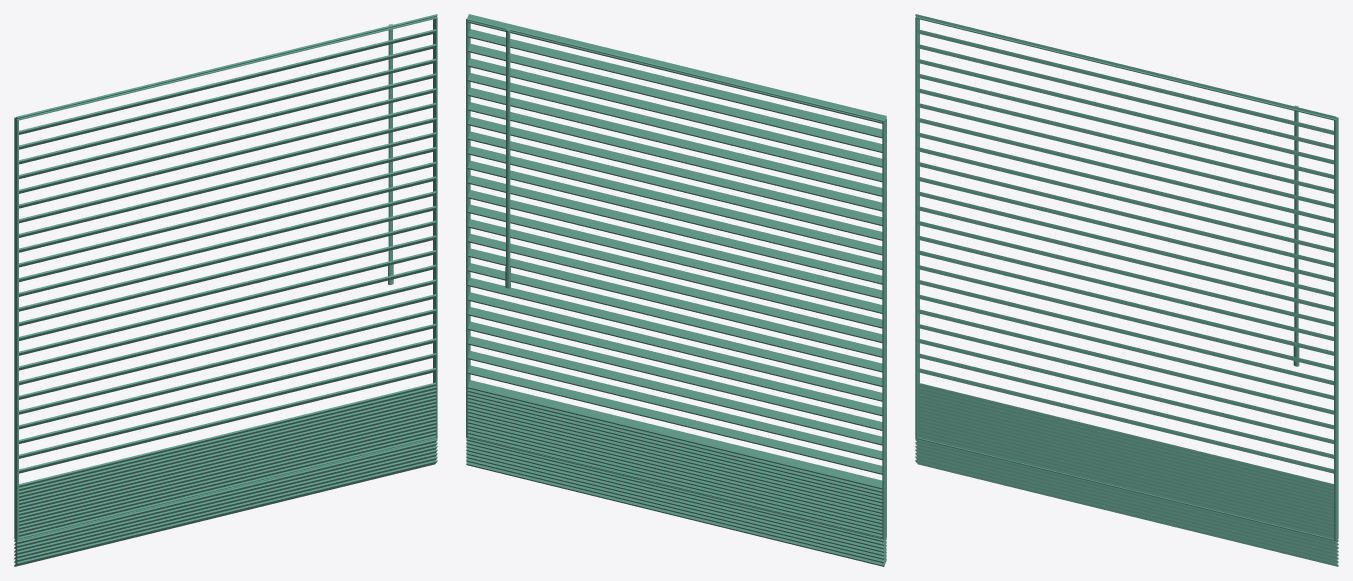
The model's file is verticalBlindAnim.glb.
3 renders of one model, left to right at view 1: azimuth 30°, elevation 25°; view 2: azimuth 150°, elevation 25°; view 3: azimuth 330°, elevation 25°, orthographic.
Visible parts, largest first — view 1: Sheet, Wood, Cable; view 2: Sheet, Wood, Cable; view 3: Sheet, Wood, Cable.
Part boxes in pixels (bbox=[...]): Sheet: bbox=[14, 14, 437, 566]; Wood: bbox=[14, 16, 437, 541]; Cable: bbox=[388, 24, 393, 284]; Sheet: bbox=[466, 14, 886, 566]; Wood: bbox=[466, 18, 886, 539]; Cable: bbox=[505, 29, 510, 288]; Sheet: bbox=[915, 14, 1338, 566]; Wood: bbox=[915, 16, 1338, 541]; Cable: bbox=[1293, 105, 1299, 366].
Bounding box in the file's own units: 47.51 × 48.84 × 0.9748.
